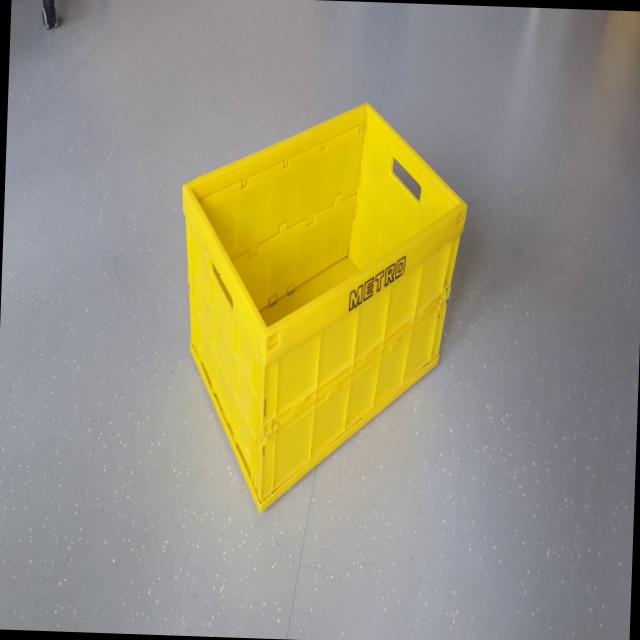box: (150, 78, 479, 534)
